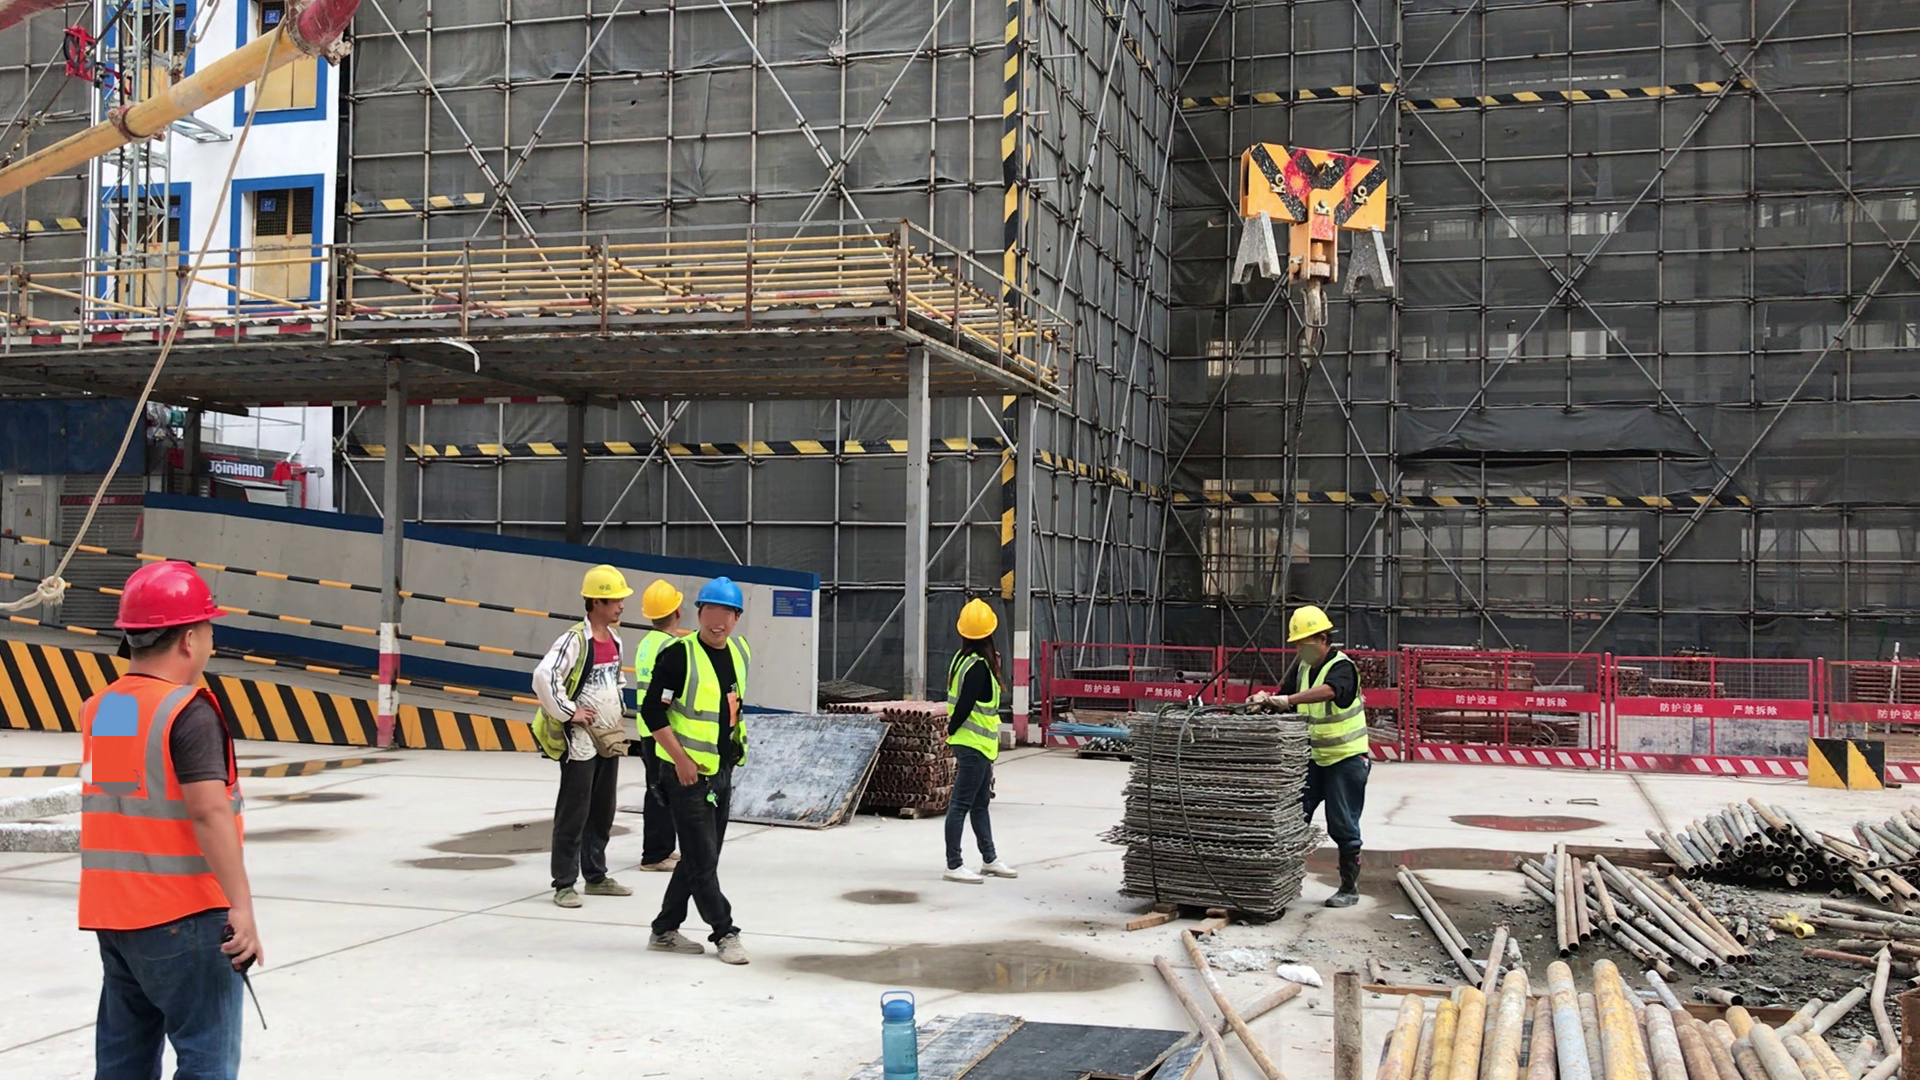helmet: (113, 560, 224, 627), (1285, 600, 1333, 646), (581, 560, 632, 601), (955, 596, 997, 641), (694, 576, 747, 610), (643, 577, 682, 618)
person: (78, 561, 264, 1080), (644, 576, 755, 970), (529, 561, 636, 908), (1248, 613, 1370, 908), (940, 595, 1022, 886), (636, 576, 689, 880)
vest: (75, 677, 251, 934), (655, 630, 744, 772), (1296, 653, 1373, 769), (944, 649, 1004, 757), (635, 634, 674, 735)
